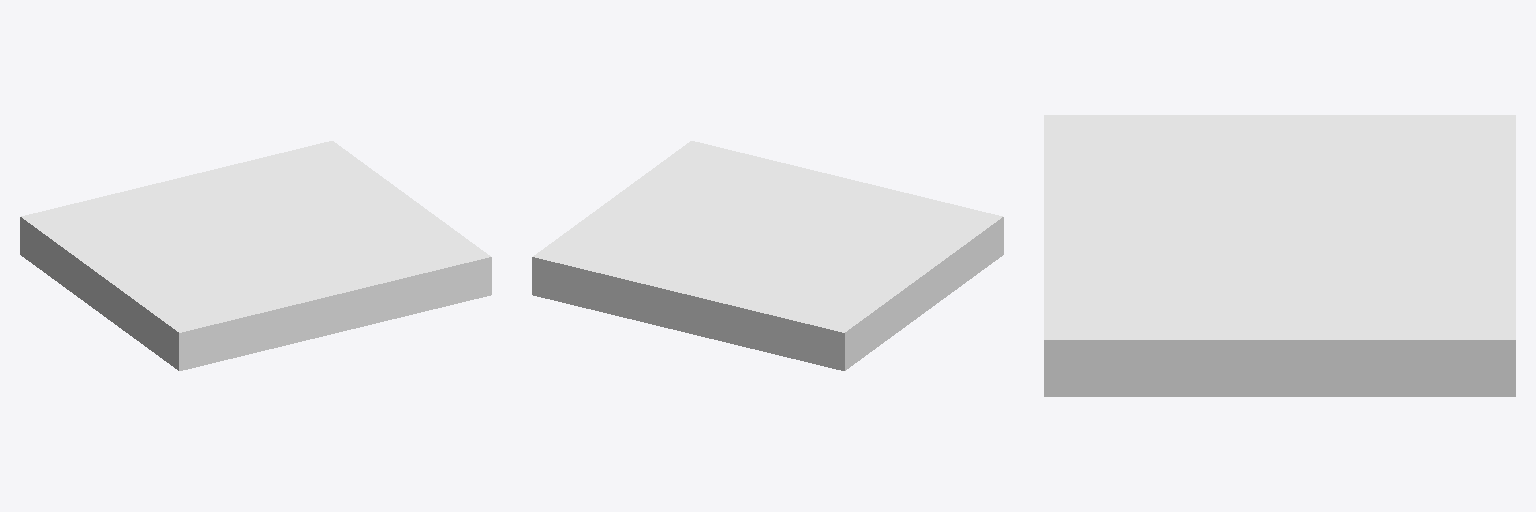
The robot description file, URDF, robot "table":
<?xml version="1.0" ?>
<!-- =================================================================================== -->
<!-- |    This document was autogenerated by xacro from table.urdf.xacro               | -->
<!-- |    EDITING THIS FILE BY HAND IS NOT RECOMMENDED                                 | -->
<!-- =================================================================================== -->
<robot name="table" xmlns:xacro="http://ros.org/wiki/xacro">
  <link name="base_link">
    <contact>
      <lateral_friction value="0.1"/>
    </contact>
    <inertial>
      <origin rpy="0 0 0" xyz="0 0 0"/>
      <mass value="100.0"/>
      <inertia ixx="0.01" ixy="0" ixz="0" iyy="0.01" iyz="0" izz="0.01"/>
    </inertial>
    <visual>
      <origin rpy="0 0 0" xyz="0 0 0"/>
      <geometry>
        <mesh filename="cube.obj" scale="0.85 0.75 0.1"/>
      </geometry>
      <material name="white">
        <color rgba="1 1 1 1"/>
      </material>
    </visual>
    <collision>
      <origin rpy="0 0 0" xyz="0 0 0"/>
      <geometry>
        <mesh filename="cube.obj" scale="0.85 0.75 0.1"/>
      </geometry>
      <material name="white">
        <color rgba="1 1 1 1"/>
      </material>
    </collision>
  </link>
</robot>

--- Render facts (derived) ---
3 views of the same robot in one strip: view 1: azimuth 30°, elevation 25°; view 2: azimuth 150°, elevation 25°; view 3: azimuth 270°, elevation 25° (orthographic).
Robot: table — 1 links, 0 joints (none); root link base_link; default pose: every joint at zero.
Links seen in each view (by area): view 1: base_link; view 2: base_link; view 3: base_link.
Link boxes in pixels (x1=…): base_link: x1=20, y1=141, x2=491, y2=370; base_link: x1=532, y1=141, x2=1003, y2=370; base_link: x1=1044, y1=115, x2=1515, y2=396.
Size in the robot's own frame: 0.85 by 0.75 by 0.1 metres.
1 mesh visuals loaded from 1 distinct referenced files (1 OBJ).
